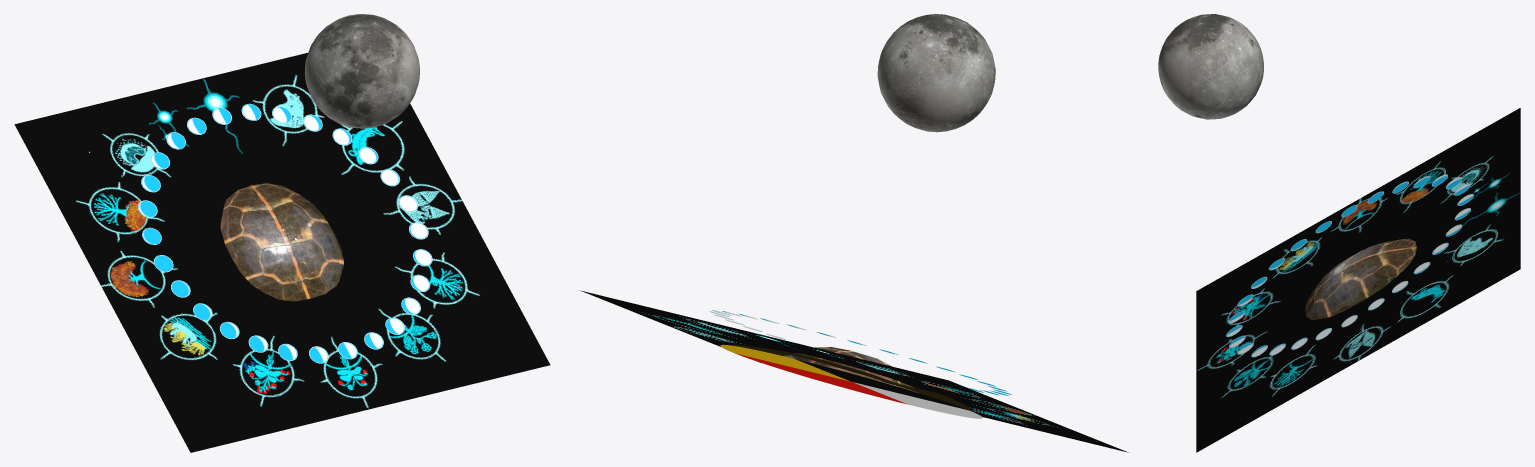
The model's file is calendar.glb.
3 renders of one model, left to right at view 1: azimuth 30°, elevation 25°; view 2: azimuth 150°, elevation 25°; view 3: azimuth 270°, elevation 25°, orthographic. The views are drawn at different scales.
Visible parts, largest first — view 1: Ring of thirteen moons, Turtle_Shell, MoonObject, Ring of phases; view 2: MoonObject, Ring of thirteen moons, Med_wheel_Base, Turtle_Shell, Ring of phases; view 3: Ring of thirteen moons, MoonObject, Turtle_Shell, Ring of phases.
Boxes of the visible parts, x1,y1,x2,y2 form: Ring of thirteen moons: (14, 53, 550, 452); Turtle_Shell: (220, 183, 343, 301); MoonObject: (305, 14, 419, 128); Ring of phases: (89, 103, 432, 363); MoonObject: (877, 14, 995, 132); Ring of thirteen moons: (580, 290, 1128, 452); Med_wheel_Base: (720, 344, 982, 418); Turtle_Shell: (783, 347, 919, 393); Ring of phases: (709, 310, 1012, 396); Ring of thirteen moons: (1196, 108, 1520, 452); MoonObject: (1158, 14, 1263, 119); Turtle_Shell: (1305, 238, 1416, 319); Ring of phases: (1226, 141, 1474, 357).
Size of the model in its own units: 1.1 by 1.12 by 1.04.
Materials: 9 (4 with a texture image).
